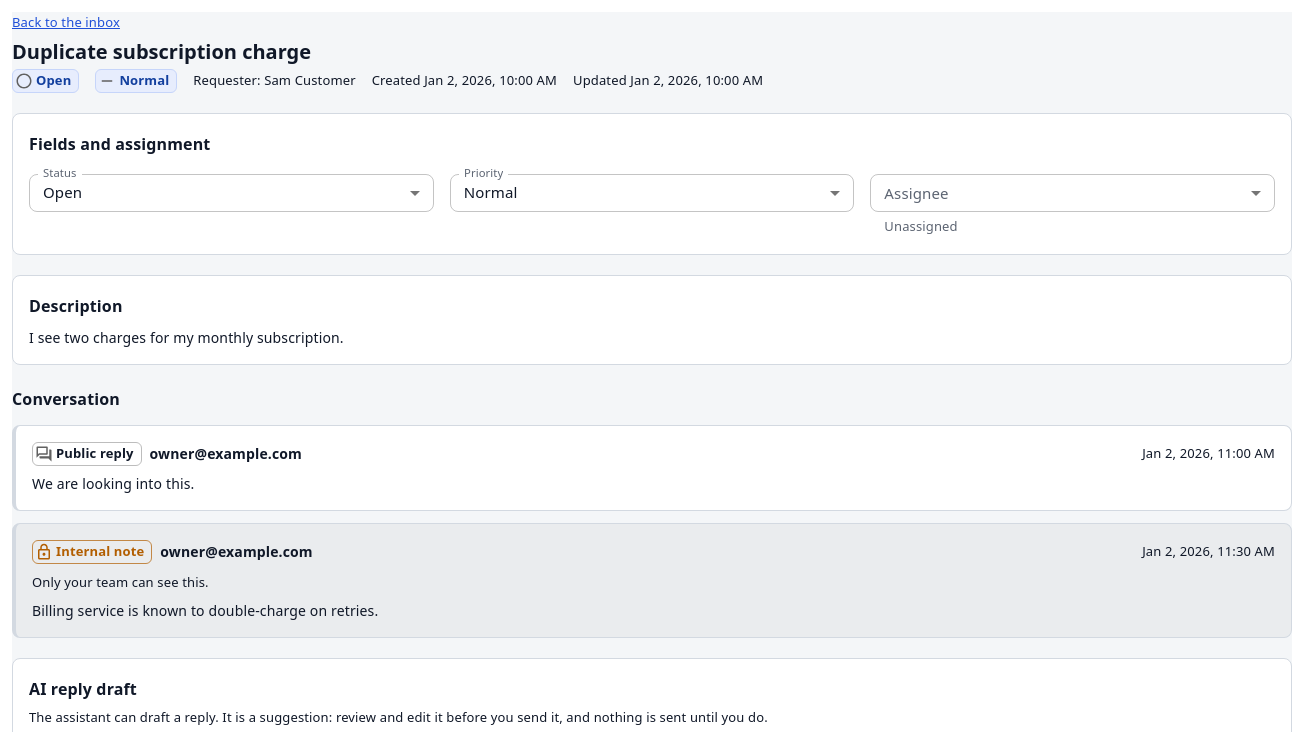
Scenario: TicketDetailPage › limits assignment to what the role may do
Click the dropdown named "Assignee".
click(1073, 193)  # box [870, 174, 1275, 212]
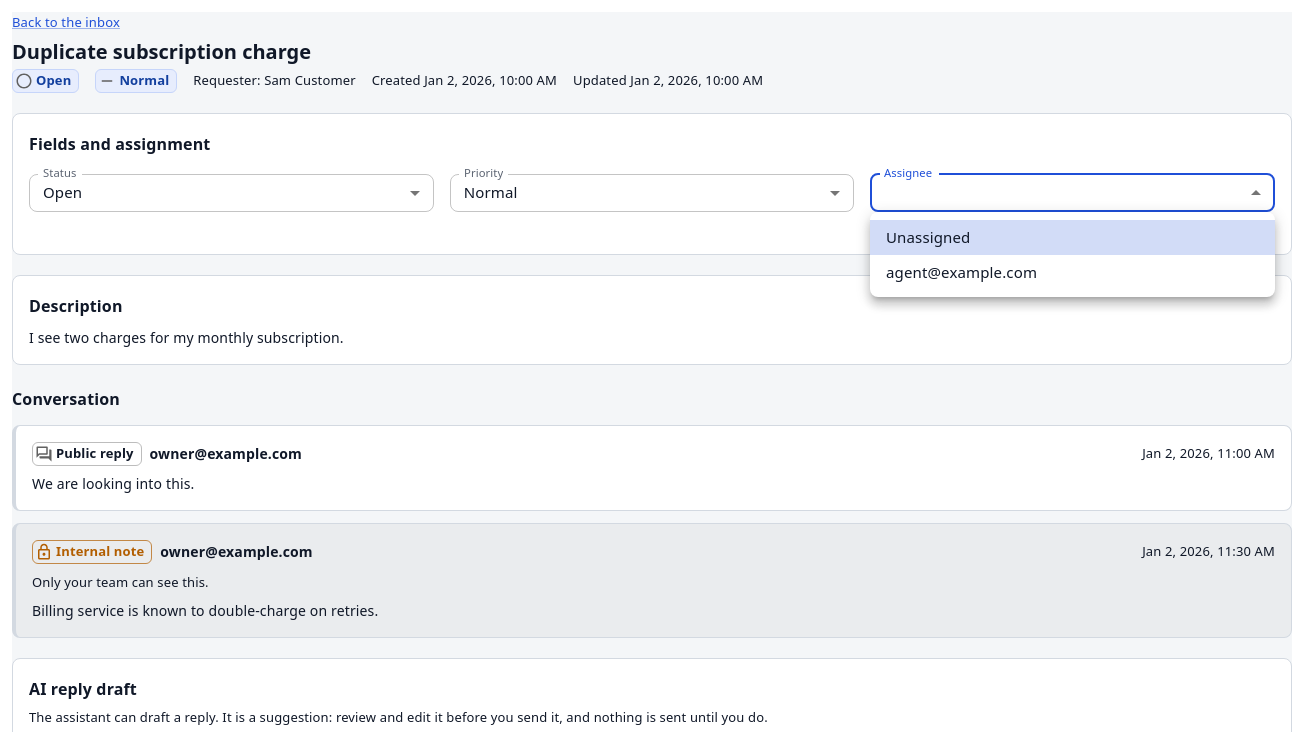
Expected: the option "agent@example.com" is shown, [886, 262, 1037, 282]
